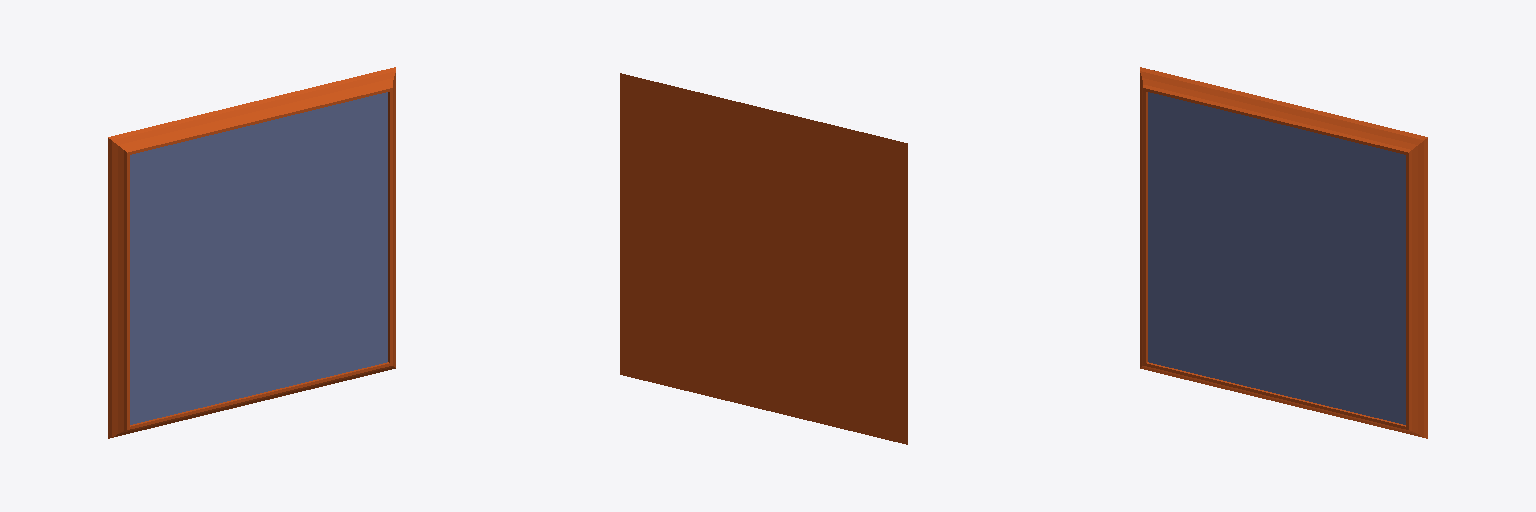
Rendered from board.obj.
3 views of the same model, side by side, from view 1: azimuth 30°, elevation 25°; view 2: azimuth 150°, elevation 25°; view 3: azimuth 330°, elevation 25° (orthographic).
Visible parts, largest first — view 1: Cube; view 2: Cube; view 3: Cube.
Part boxes in pixels (left/top/right/bottom): Cube: left=108, top=67, right=395, bottom=438; Cube: left=620, top=73, right=907, bottom=444; Cube: left=1140, top=67, right=1427, bottom=438.
Size of the model in its own units: 8.88 by 8.88 by 0.4413.